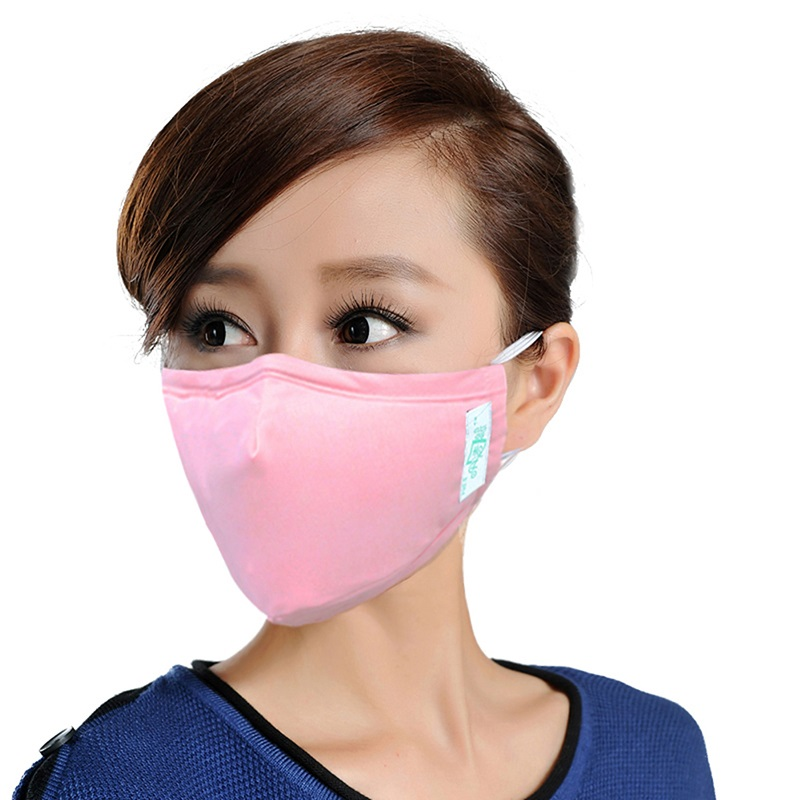face_mask: (158, 151, 502, 599)
